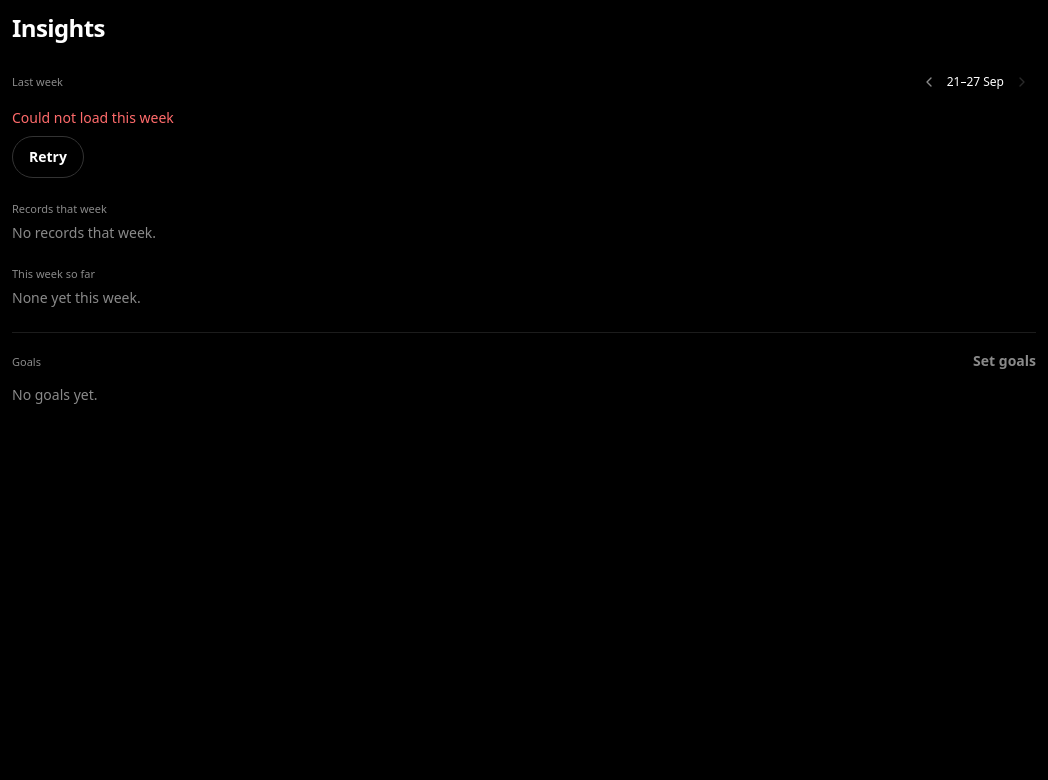
it: Insights: the week › shows an error card with Retry when the week cannot load
This screenshot has width=1048, height=780.
Expected: the text "Could not load this week" is shown, [12, 108, 174, 127]
Click the button "Retry" at (48, 157), box [12, 136, 84, 178]
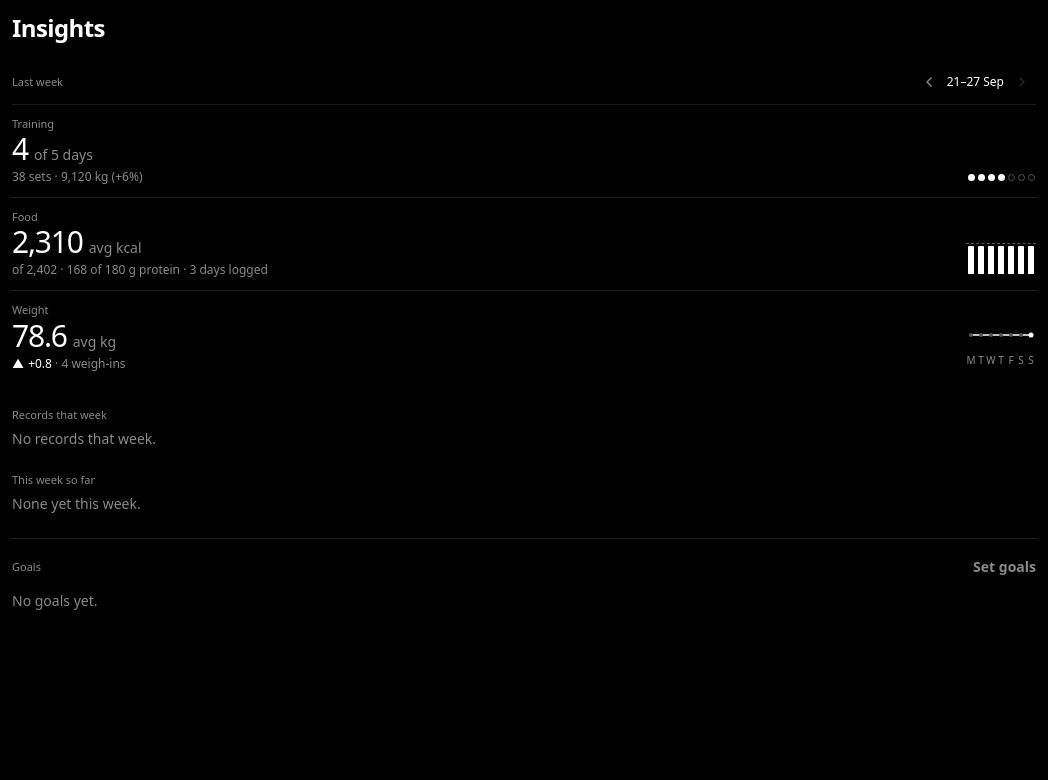
Expected: the text "38 sets · 9,120 kg (+6%)" is shown, [12, 169, 142, 185]
